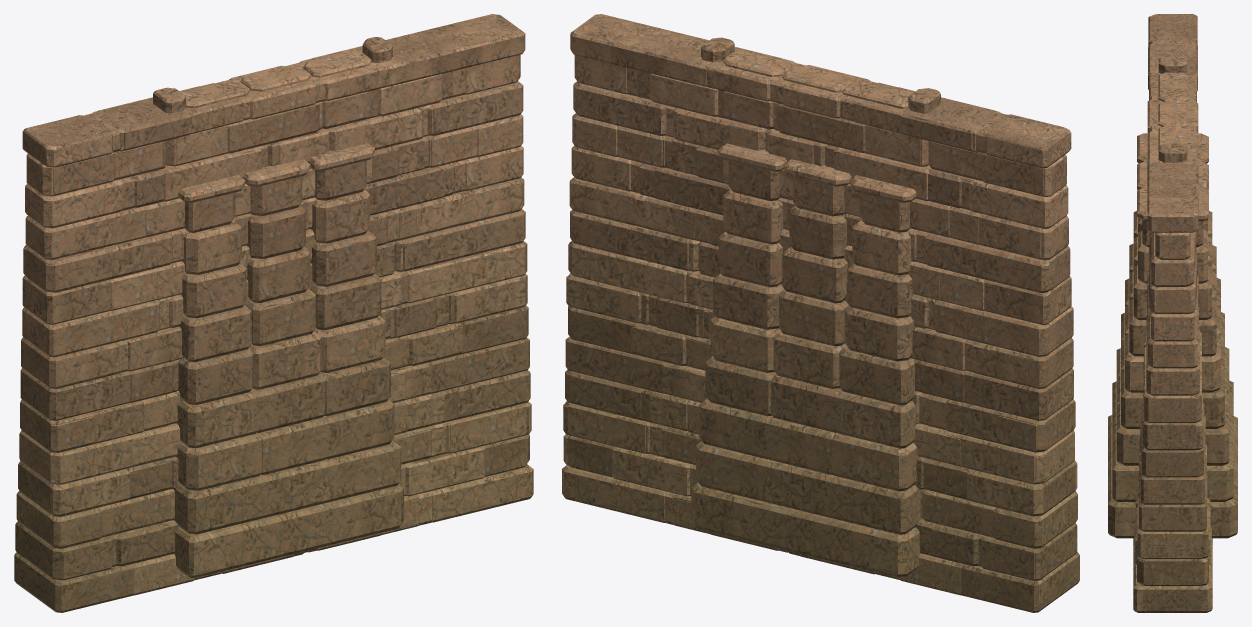
Rendered from CausewayAshlar.glb.
3 views of the same model, side by side, from view 1: azimuth 30°, elevation 25°; view 2: azimuth 150°, elevation 25°; view 3: azimuth 270°, elevation 25° (orthographic). The views are drawn at different scales.
Visible parts, largest first — view 1: AshlarBay3, AshlarBay2, AshlarBay1, DescentTread; view 2: AshlarBay2, AshlarBay3, AshlarBay1, DescentTread; view 3: AshlarBay1, AshlarBay3, AshlarBay2, DescentTread.
Boxes of the visible parts, <box> form: AshlarBay3: <box>15,15,531,594</box>; AshlarBay2: <box>14,14,533,612</box>; AshlarBay1: <box>14,15,529,611</box>; DescentTread: <box>153,37,392,113</box>; AshlarBay2: <box>562,14,1079,612</box>; AshlarBay3: <box>563,15,1077,583</box>; AshlarBay1: <box>563,16,1079,611</box>; DescentTread: <box>701,37,940,113</box>; AshlarBay1: <box>1108,14,1237,610</box>; AshlarBay3: <box>1108,14,1237,610</box>; AshlarBay2: <box>1108,14,1237,612</box>; DescentTread: <box>1158,56,1187,162</box>.
Size of the model in its own units: 6.38 by 6.01 by 1.73.
Materials: 1 (1 with a texture image).
